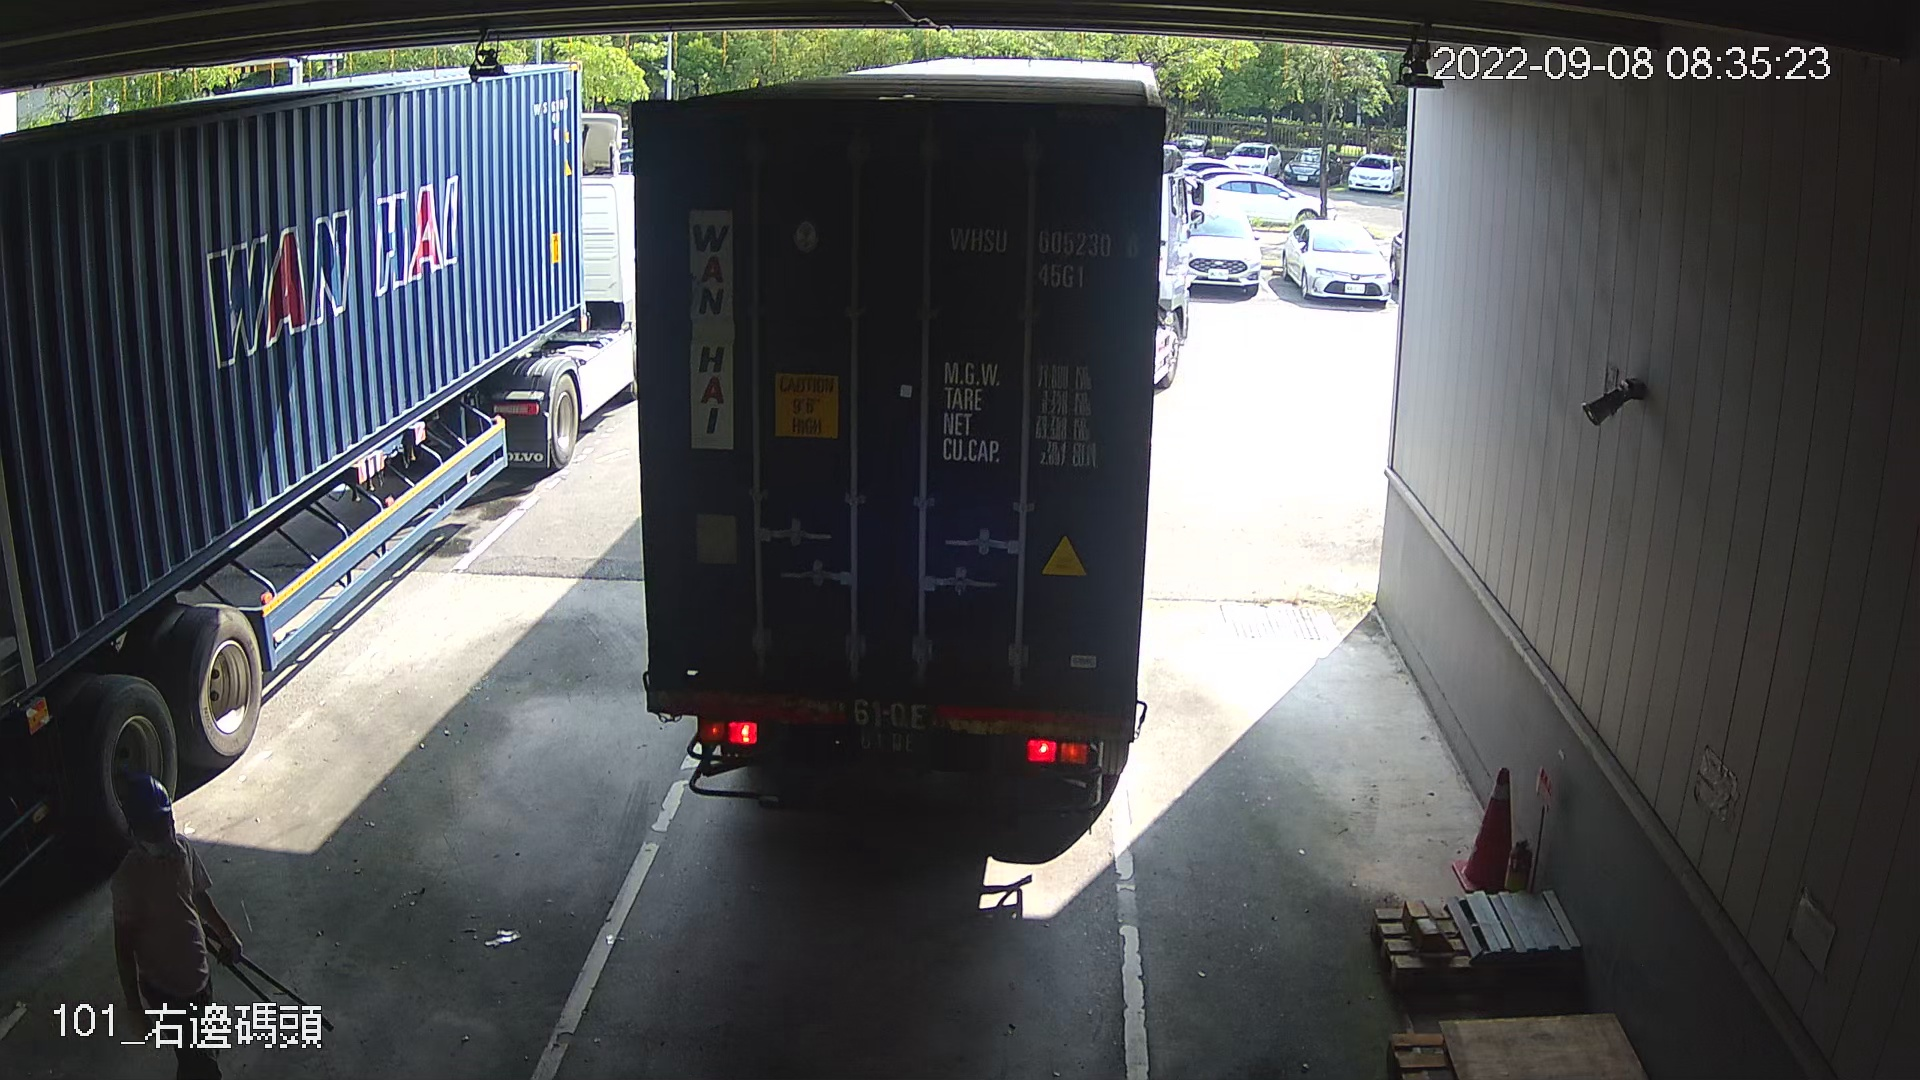container: (939, 214, 1147, 301)
